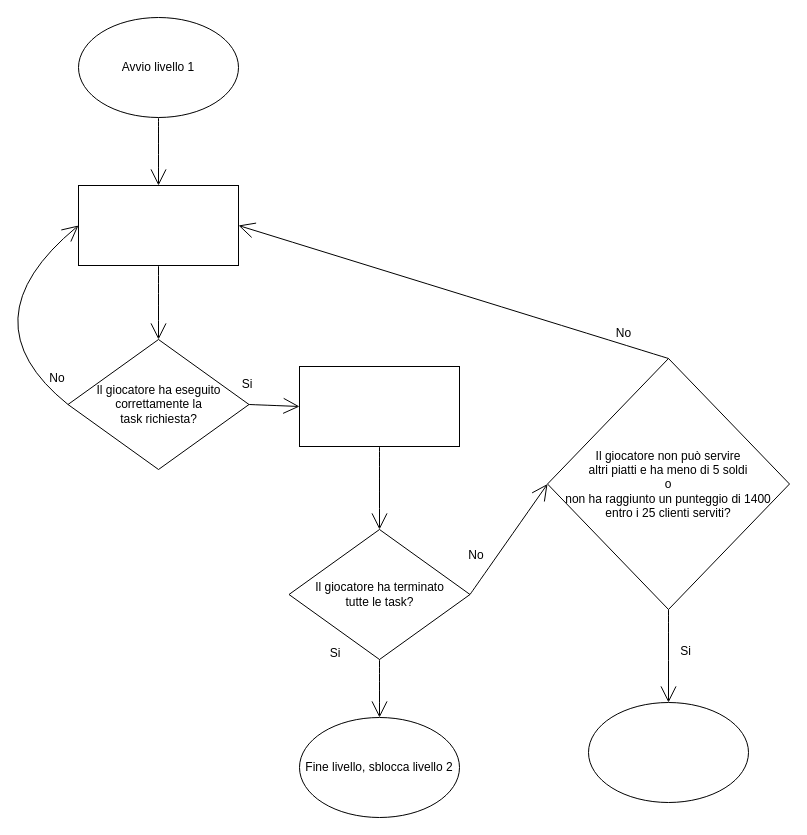
Some shapes in this 807 by 835 pixel diagram are drawn without their labels. Each missing label, with the centre of its shape:
"Esecuzione Task del livello" goes at pixel 158 225.
"Fine livello, gameover" goes at pixel 668 752.
"Task successiva" goes at pixel 379 406.
